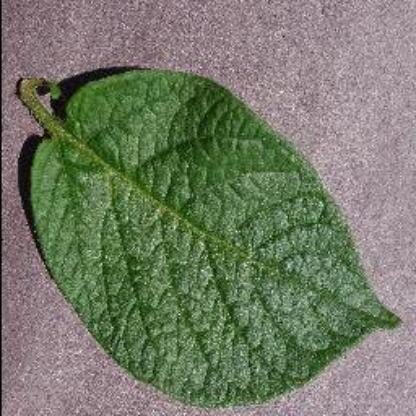Healthy-plant: (19, 67, 405, 405)
